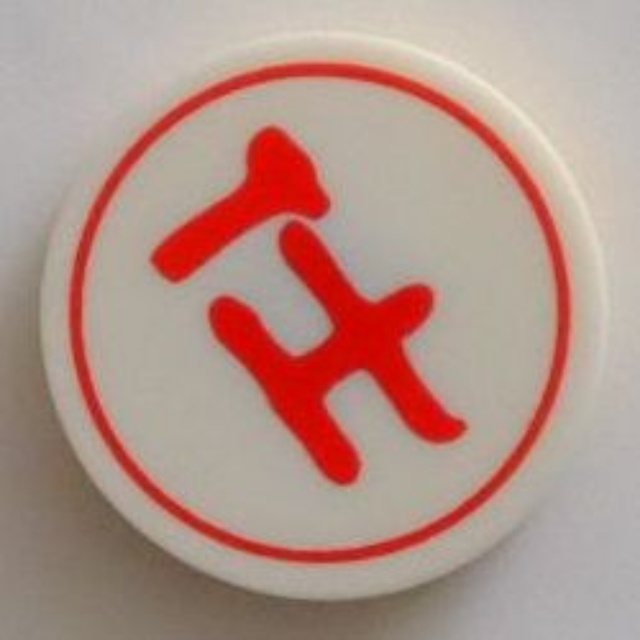red_si: (34, 26, 607, 609)
